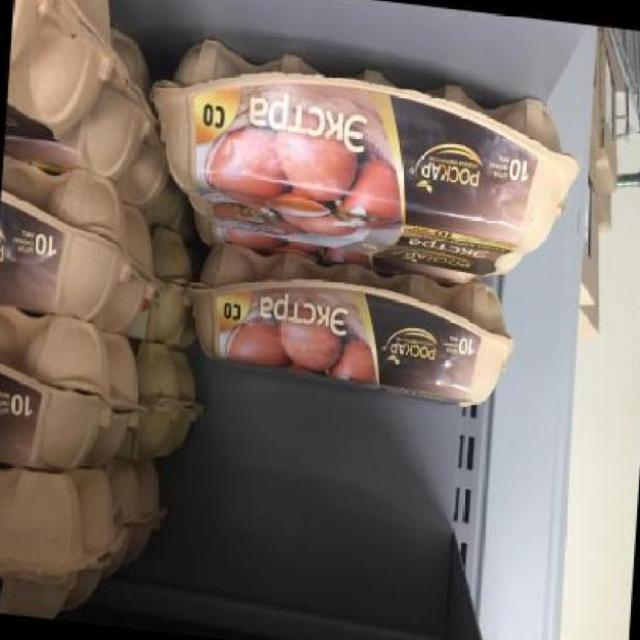Egg: (145, 38, 585, 289), (181, 238, 525, 414), (0, 300, 111, 485), (0, 155, 118, 322), (4, 0, 126, 153), (0, 465, 85, 621)
